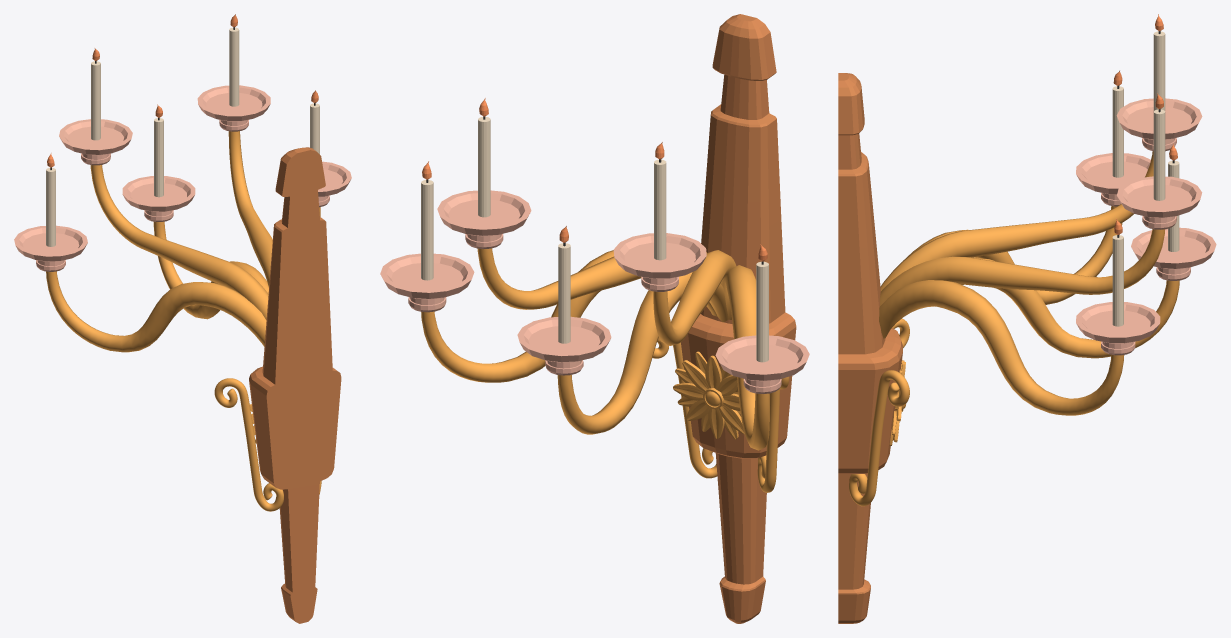
File: Kronleuchter.glb
3 views of the same model, side by side, from view 1: azimuth 30°, elevation 25°; view 2: azimuth 150°, elevation 25°; view 3: azimuth 270°, elevation 25° (orthographic). The views are drawn at different scales.
Visible parts, largest first — view 1: Kronleuchter.002; view 2: Kronleuchter.002; view 3: Kronleuchter.002.
Part boxes in pixels (x1,y1,x2,y2): Kronleuchter.002: [14, 14, 351, 623]; Kronleuchter.002: [380, 14, 809, 623]; Kronleuchter.002: [838, 14, 1216, 623].
Bounding box in the file's own units: 0.7456 × 1.07 × 0.6455.
1 material, 1 textured.
